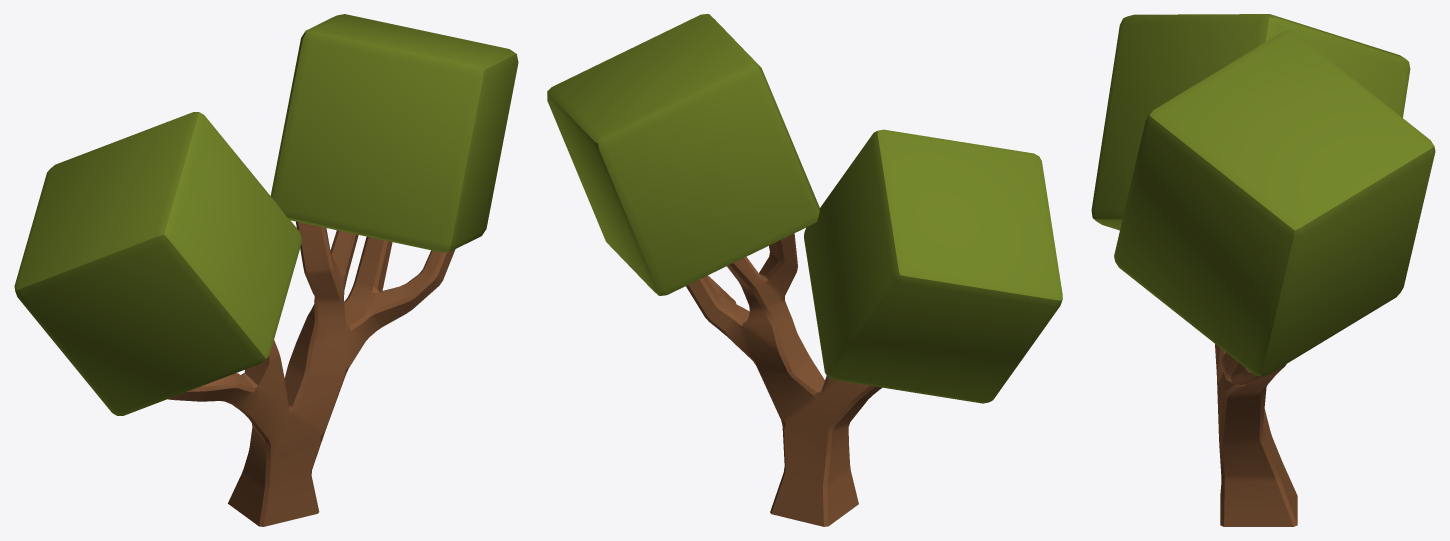
The model's file is Tree_3.glb.
3 renders of one model, left to right at view 1: azimuth 30°, elevation 25°; view 2: azimuth 150°, elevation 25°; view 3: azimuth 270°, elevation 25°, orthographic. The views are drawn at different scales.
Visible parts, largest first — view 1: Tree_3; view 2: Tree_3; view 3: Tree_3.
Part boxes in pixels (x1,y1,x2,y2): Tree_3: (14, 14, 518, 526); Tree_3: (547, 14, 1062, 526); Tree_3: (1091, 14, 1435, 526).
Bounding box in the file's own units: 9.13 × 7.71 × 4.75.
Materials: 1 (1 with a texture image).
